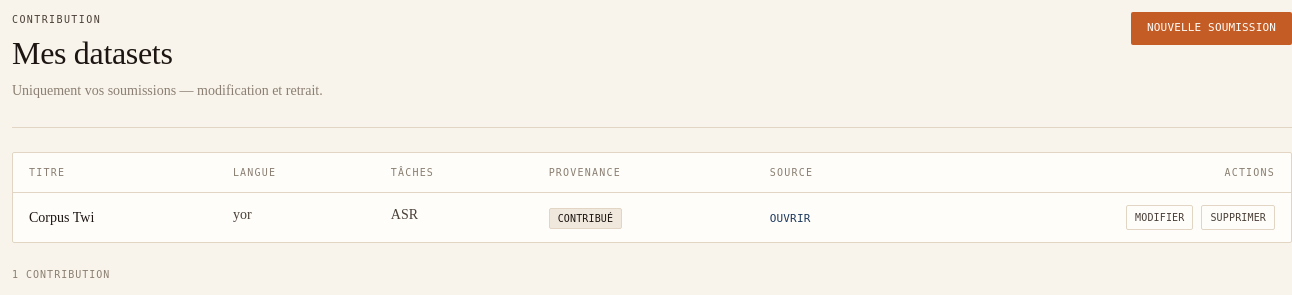
Scenario: MyDatasetsPanel (Story 3.6) › supprime une soumission après confirmation
Click the button "Supprimer". click: (1238,217)
box: [1202, 204, 1275, 230]
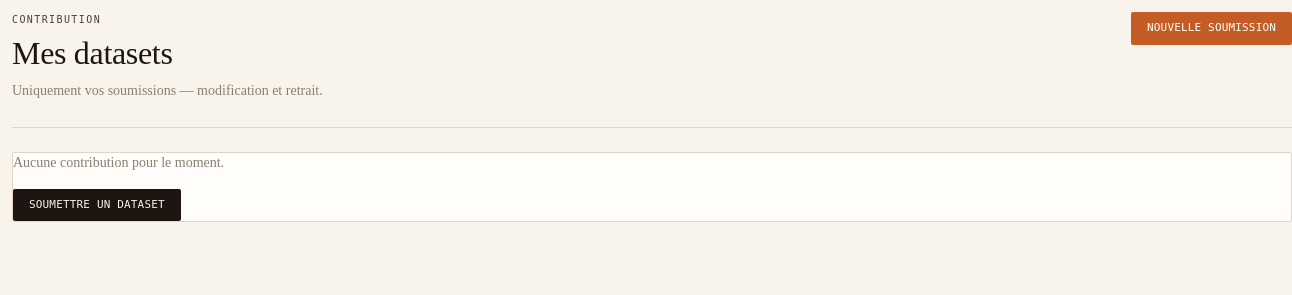
Expected: the text "Aucune contribution pour le moment." is shown, [13, 154, 224, 170]
